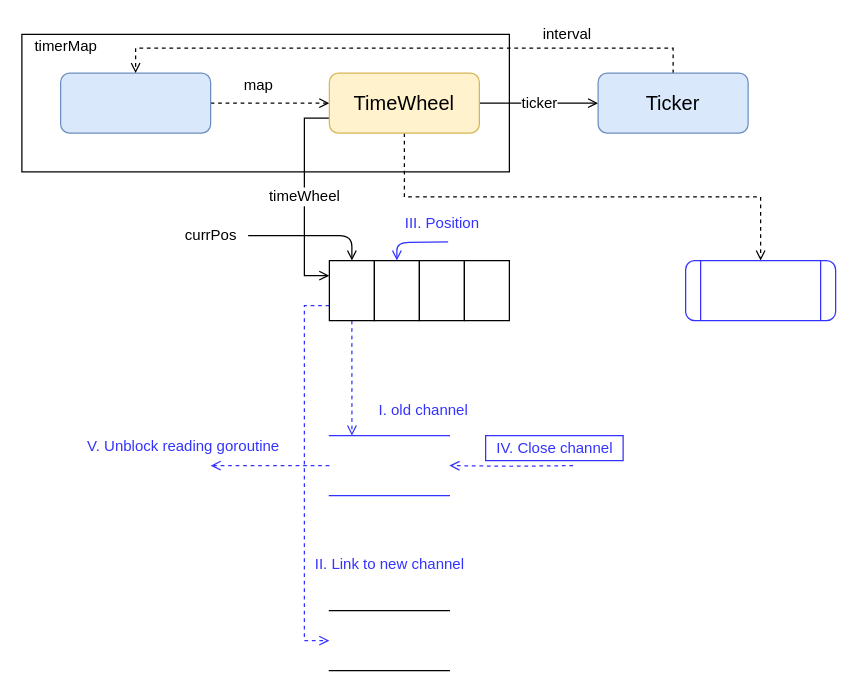
The diagram is 858 pixels wide and 693 high, and some of its shapes have lost their labels. Here are the shapes that lost their labels. From the top down, the box of each, then its label:
(59, 72, 211, 133): Duration
(684, 259, 836, 321): # run
